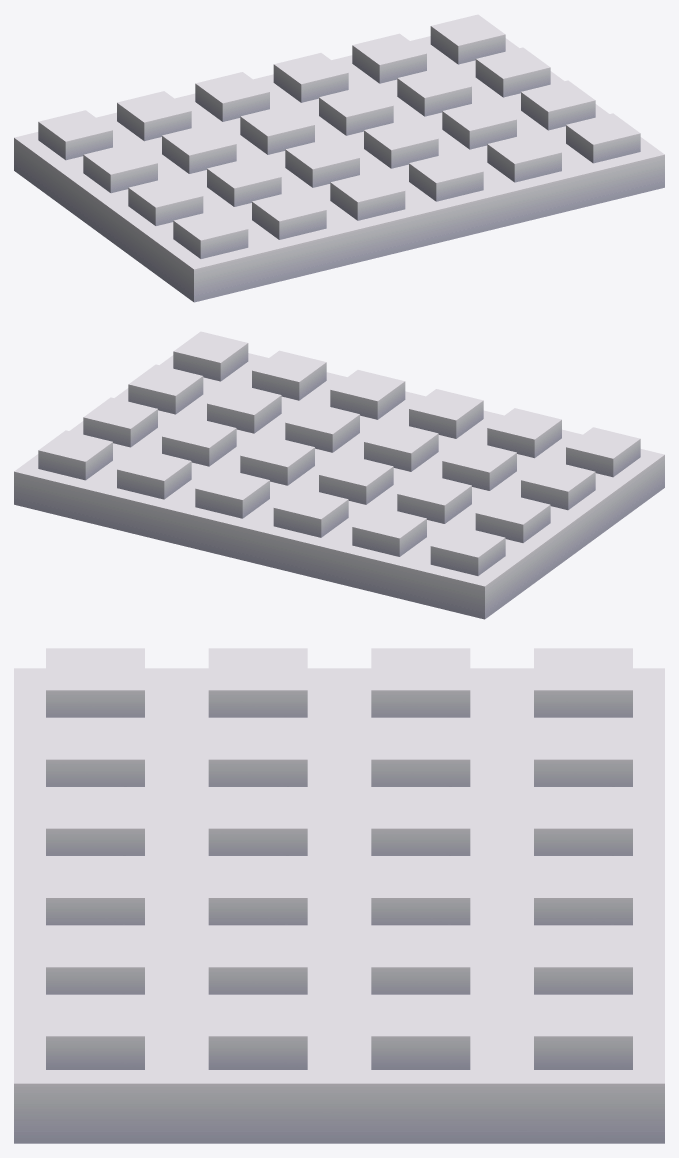
Rendered from square-lq-plate-4x6.glb.
3 views of the same model, one above another, from view 1: azimuth 30°, elevation 25°; view 2: azimuth 150°, elevation 25°; view 3: azimuth 270°, elevation 25° (orthographic). The views are drawn at different scales.
Visible parts, largest first — view 1: square-lq-plate-4x6; view 2: square-lq-plate-4x6; view 3: square-lq-plate-4x6.
Part boxes in pixels (x1,y1,x2,y2): square-lq-plate-4x6: (14, 14, 664, 302); square-lq-plate-4x6: (14, 331, 664, 619); square-lq-plate-4x6: (14, 648, 664, 1143).
Bounding box in the file's own units: 0.477 × 0.05 × 0.316.
1 material, 1 textured.
